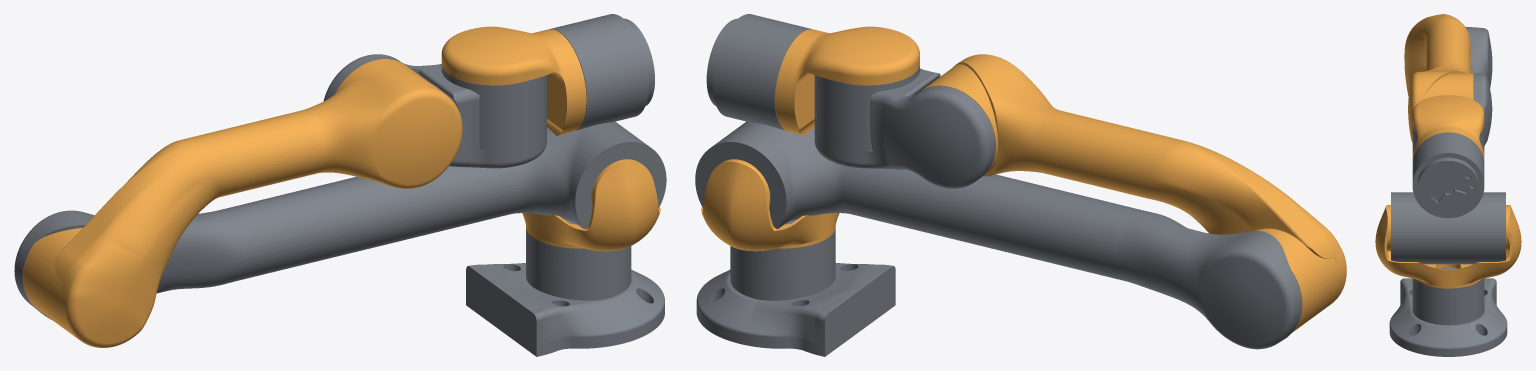
Rendered from unitree_z1_manipulator.glb.
3 views of the same model, side by side, from view 1: azimuth 30°, elevation 25°; view 2: azimuth 150°, elevation 25°; view 3: azimuth 270°, elevation 25° (orthographic). The views are drawn at different scales.
Parts seen in each view (by area): view 1: link03_z1_Link03, link02_z1_Link02, link00_z1_Link00, link04_z1_Link04, link05_z1_Link05, link06_z1_Link06, link01_z1_Link01; view 2: link02_z1_Link02, link03_z1_Link03, link00_z1_Link00, link04_z1_Link04, link05_z1_Link05, link06_z1_Link06, link01_z1_Link01; view 3: link02_z1_Link02, link00_z1_Link00, link03_z1_Link03, link06_z1_Link06, link01_z1_Link01, link05_z1_Link05, link04_z1_Link04.
Boxes of the visible parts, box(x1,y1,x2,y2) form: link03_z1_Link03: box(23, 59, 462, 347); link02_z1_Link02: box(14, 121, 666, 319); link00_z1_Link00: box(466, 219, 664, 356); link04_z1_Link04: box(323, 54, 546, 168); link05_z1_Link05: box(441, 26, 586, 135); link06_z1_Link06: box(549, 14, 654, 130); link01_z1_Link01: box(522, 159, 660, 251); link02_z1_Link02: box(695, 121, 1302, 349); link03_z1_Link03: box(920, 54, 1346, 332); link00_z1_Link00: box(696, 219, 895, 356); link04_z1_Link04: box(814, 66, 995, 188); link05_z1_Link05: box(775, 26, 919, 135); link06_z1_Link06: box(706, 14, 812, 130); link01_z1_Link01: box(701, 159, 839, 251); link02_z1_Link02: box(1391, 26, 1505, 264); link00_z1_Link00: box(1389, 267, 1507, 356); link03_z1_Link03: box(1404, 14, 1473, 142); link06_z1_Link06: box(1412, 132, 1484, 218); link01_z1_Link01: box(1375, 205, 1521, 288); link05_z1_Link05: box(1412, 95, 1484, 160); link04_z1_Link04: box(1412, 73, 1492, 153).
Bounding box in the file's own units: 0.4357 × 0.198 × 0.1319.
